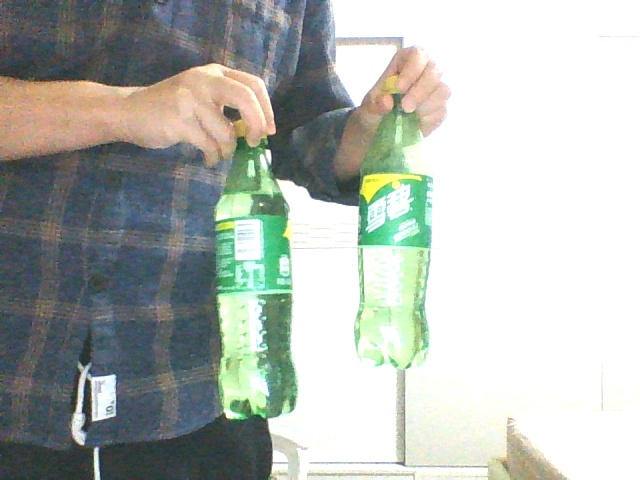Sprite: (214, 116, 298, 419), (354, 72, 432, 370)
